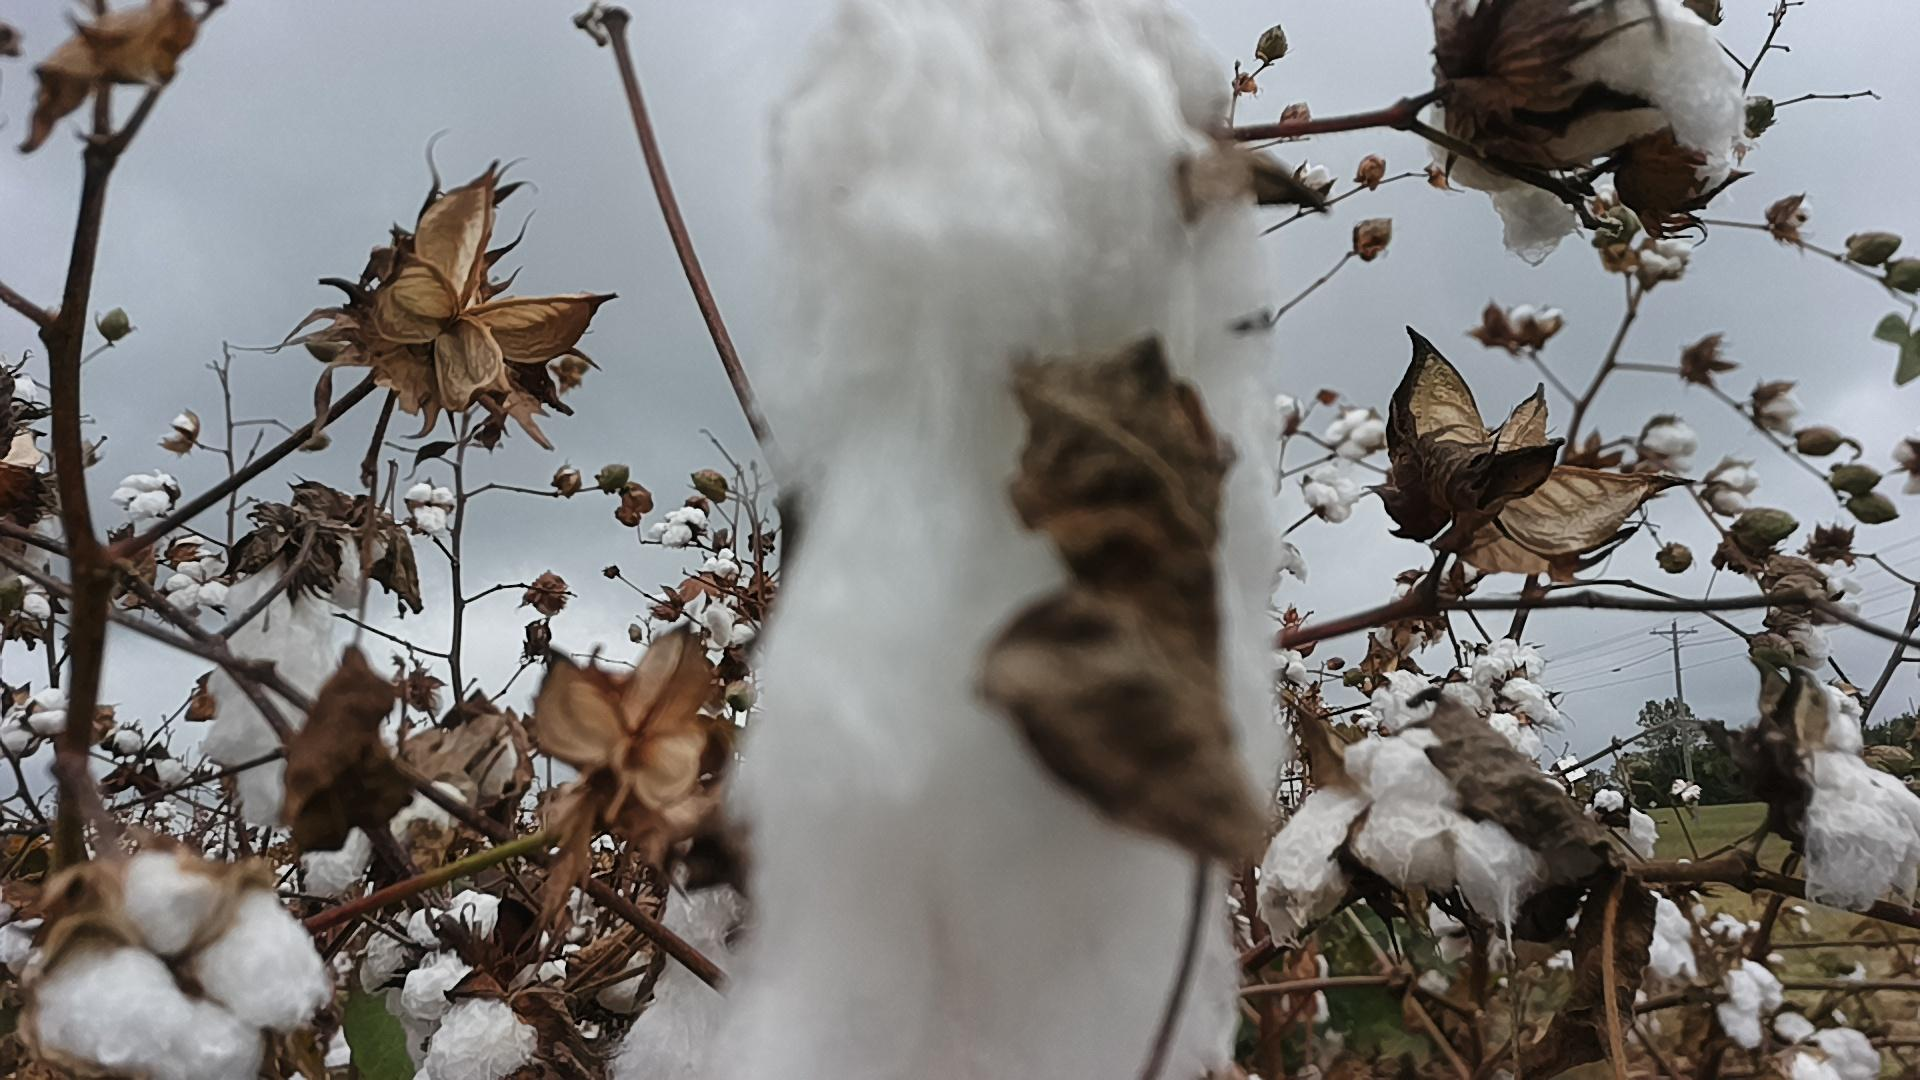cotton_ready: (720, 0, 1298, 1080), (1427, 0, 1749, 276), (30, 858, 338, 1080), (1358, 733, 1548, 951), (212, 560, 357, 828), (1787, 686, 1920, 920), (1261, 773, 1375, 956), (400, 956, 542, 1080), (1718, 965, 1788, 1052), (1791, 1029, 1891, 1080), (1654, 893, 1700, 997)
